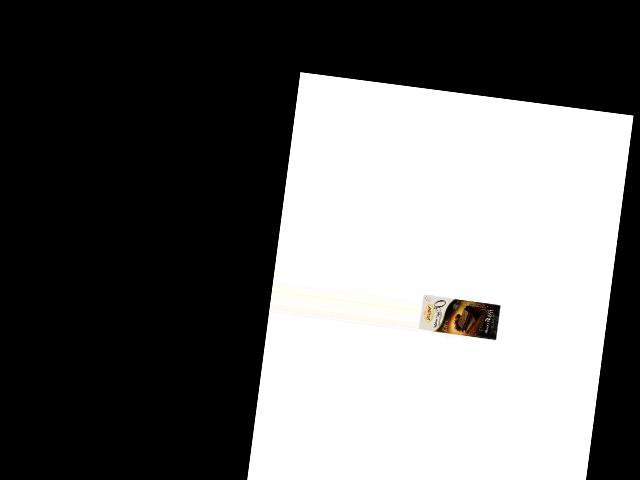chocolate: (418, 292, 501, 341)
